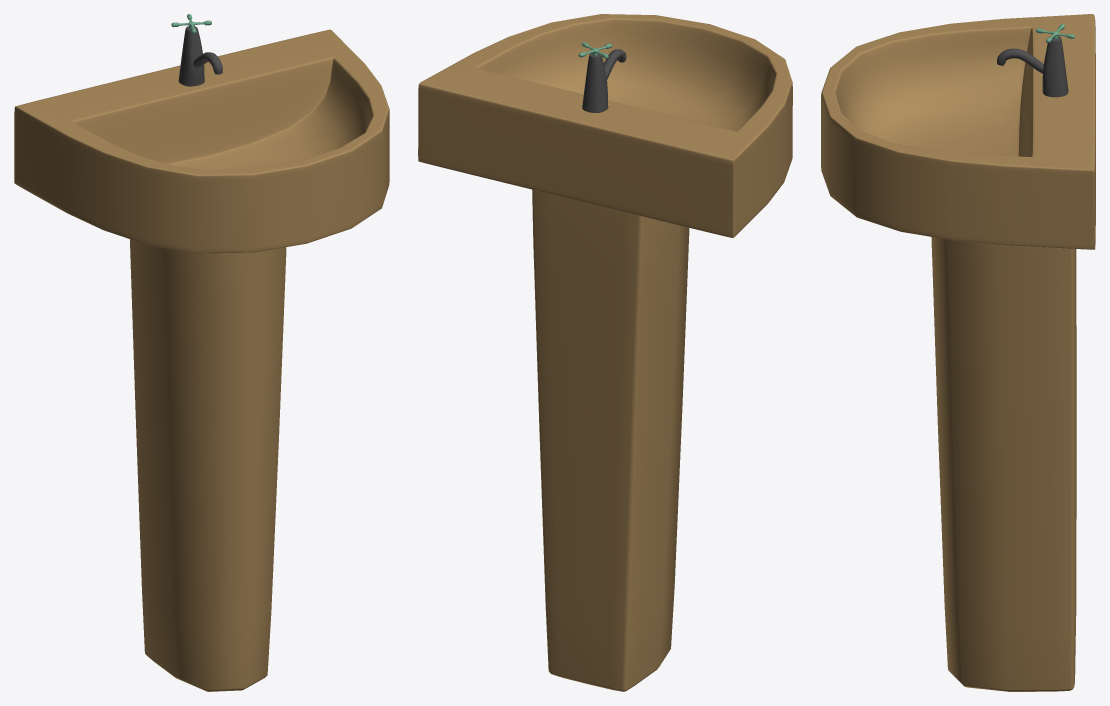
The model's file is PROP_PiaBanheiro.fbx.
3 views of the same model, side by side, from view 1: azimuth 30°, elevation 25°; view 2: azimuth 150°, elevation 25°; view 3: azimuth 270°, elevation 25° (orthographic).
Parts seen in each view (by area): view 1: Pia, Torneira; view 2: Pia, Torneira; view 3: Pia, Torneira.
Boxes of the visible parts, box(x1,y1,x2,y2) form: Pia: box(14, 29, 389, 691); Torneira: box(178, 26, 222, 86); Pia: box(418, 14, 792, 691); Torneira: box(582, 49, 626, 112); Pia: box(821, 14, 1095, 691); Torneira: box(997, 36, 1068, 97).
Size of the model in its own units: 4.57 by 8.75 by 3.39.
